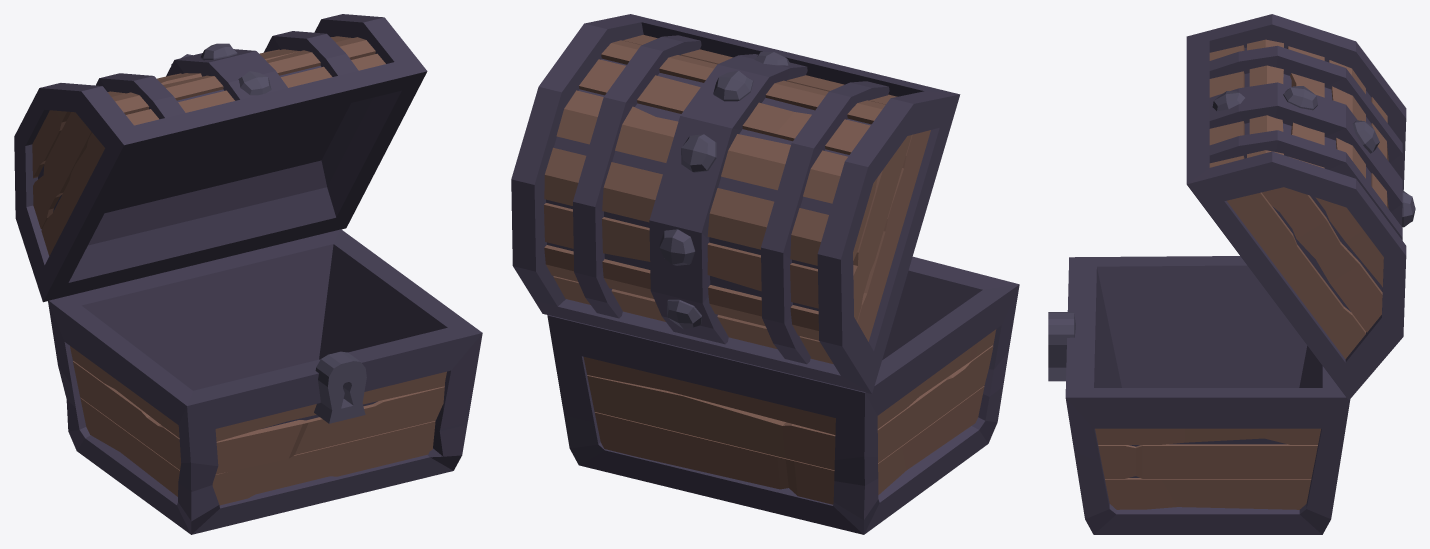
Rendered from Chest_Open.glb.
3 renders of one model, left to right at view 1: azimuth 30°, elevation 25°; view 2: azimuth 150°, elevation 25°; view 3: azimuth 270°, elevation 25°, orthographic. The views are drawn at different scales.
Parts seen in each view (by area): view 1: Chest_Open; view 2: Chest_Open; view 3: Chest_Open.
Part boxes in pixels (x1,y1,x2,y2): Chest_Open: (14, 14, 482, 534); Chest_Open: (511, 14, 1019, 534); Chest_Open: (1048, 14, 1415, 534).
Bounding box in the file's own units: 0.9496 × 1.15 × 0.9962.
